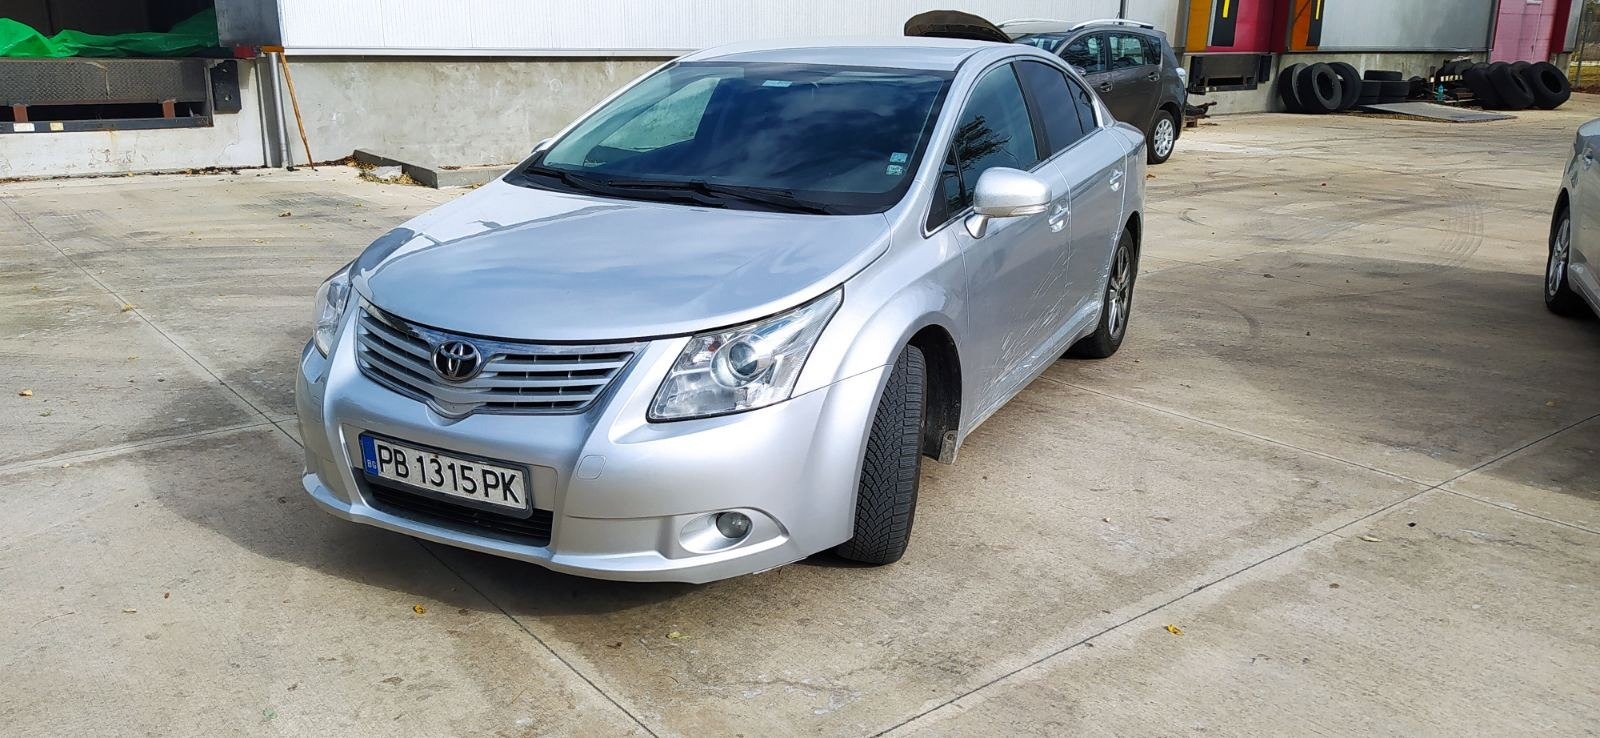registration_plate: (360, 439, 540, 517)
